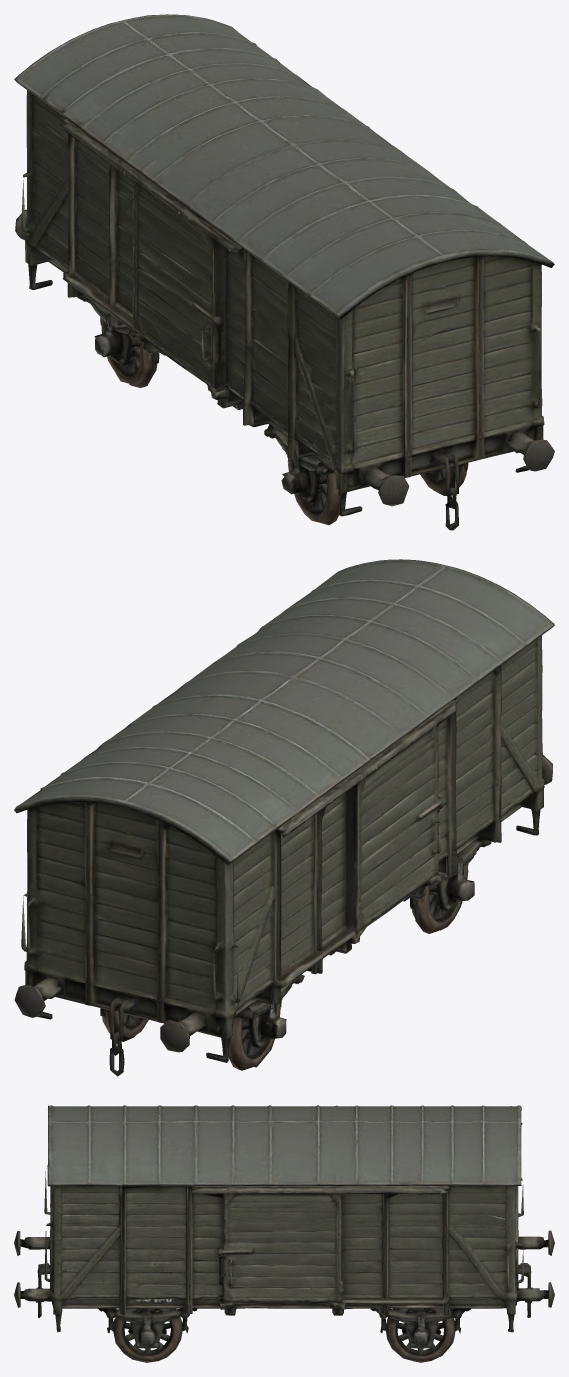
The model's file is prop_boxcar_grey.glb.
The picture shows the model from 3 angles, top to bottom: view 1: azimuth 30°, elevation 25°; view 2: azimuth 150°, elevation 25°; view 3: azimuth 270°, elevation 25°; orthographic projection. The views are drawn at different scales.
Visible parts, largest first — view 1: tripo_node_f25283cc-23ee-427b-994b-d068483438a0; view 2: tripo_node_f25283cc-23ee-427b-994b-d068483438a0; view 3: tripo_node_f25283cc-23ee-427b-994b-d068483438a0.
Part boxes in pixels (box(x1,y1,x2,y2)): tripo_node_f25283cc-23ee-427b-994b-d068483438a0: box(14, 14, 554, 530); tripo_node_f25283cc-23ee-427b-994b-d068483438a0: box(14, 559, 554, 1076); tripo_node_f25283cc-23ee-427b-994b-d068483438a0: box(14, 1105, 554, 1362).
Size of the model in its own units: 0.3675 by 0.4416 by 0.9841.
1 material, 1 textured.
